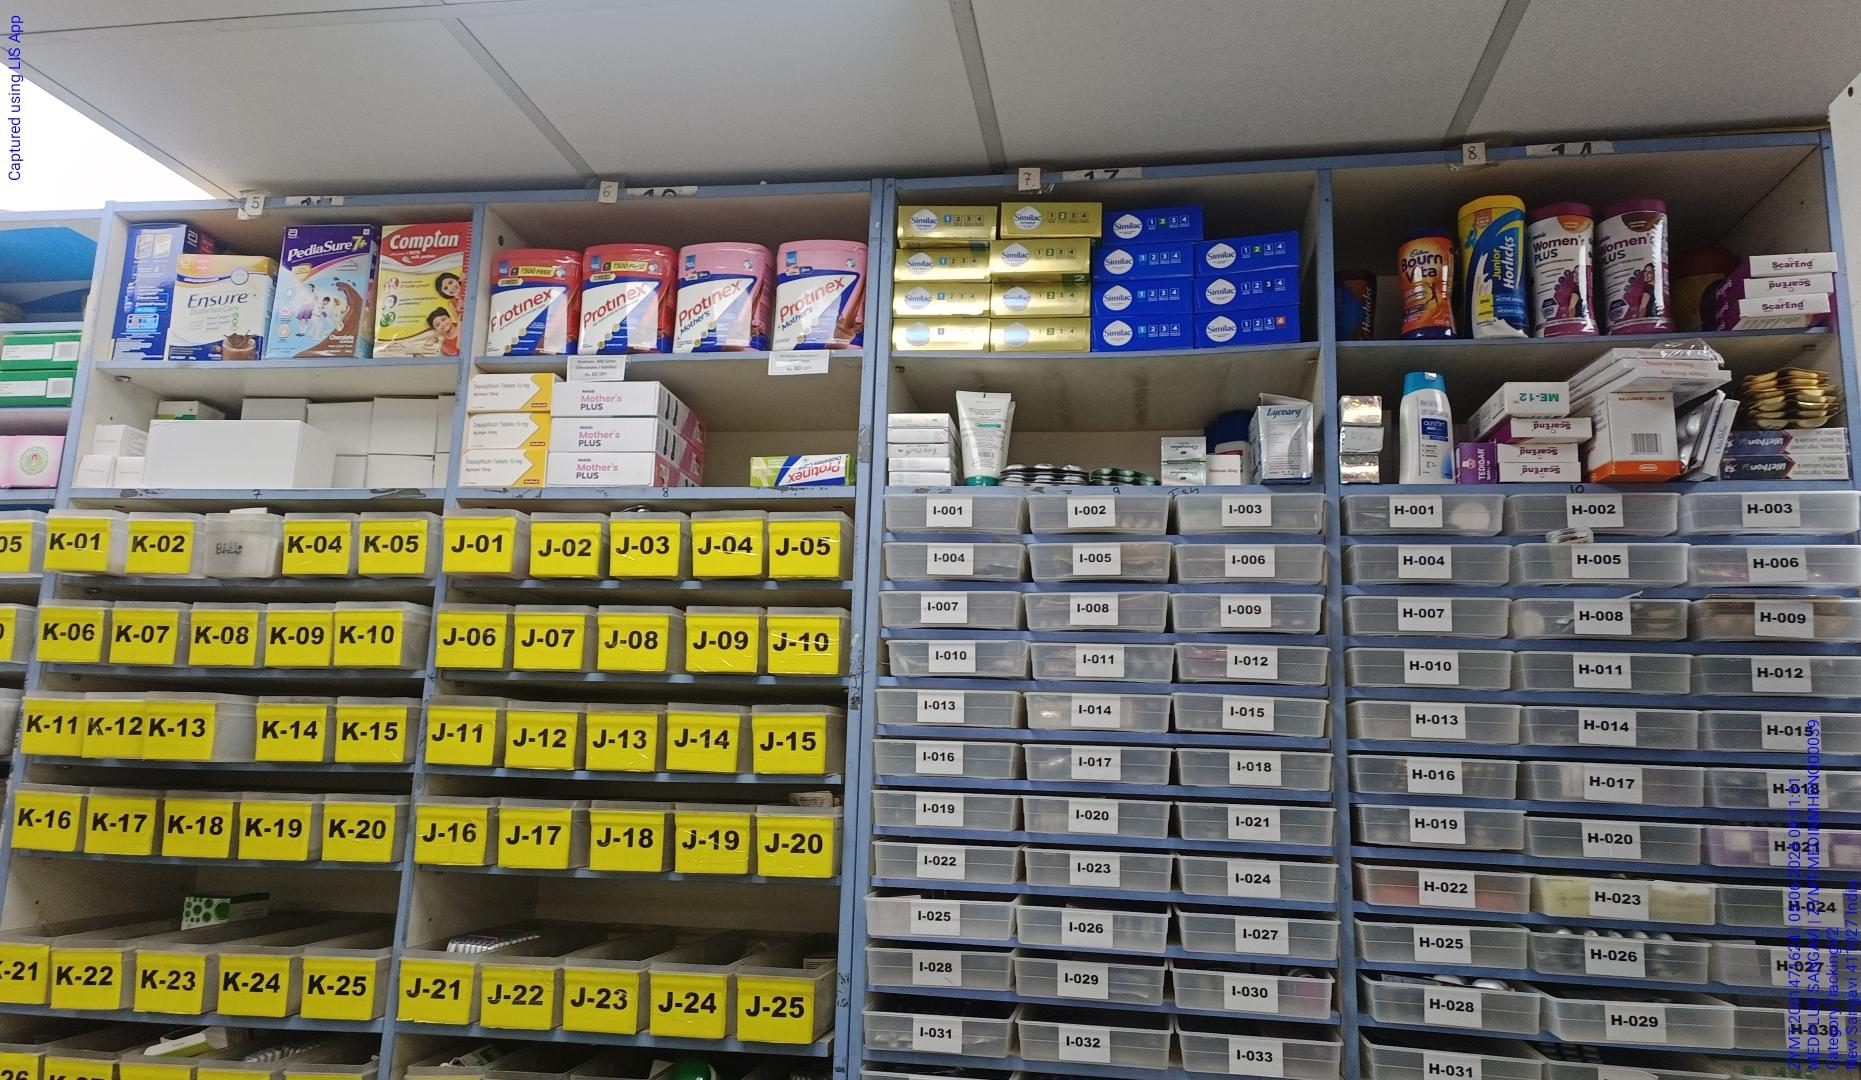BOURN_VITA_200_G_JAR: (1398, 231, 1457, 340)
COMPLAN_KESAR_BADAM_500_GMS_PACK: (375, 221, 467, 357)
HORLICKS_JUNIOR_VANILLA_500_GM_JAR: (1461, 193, 1525, 338)
PEDIASURE_7_PLUS_CHOCOLATE_400_G_PACK: (279, 226, 367, 357)
PROTINEX_CHOCOLATE_400_G_JAR: (582, 242, 672, 354), (488, 248, 579, 355)
